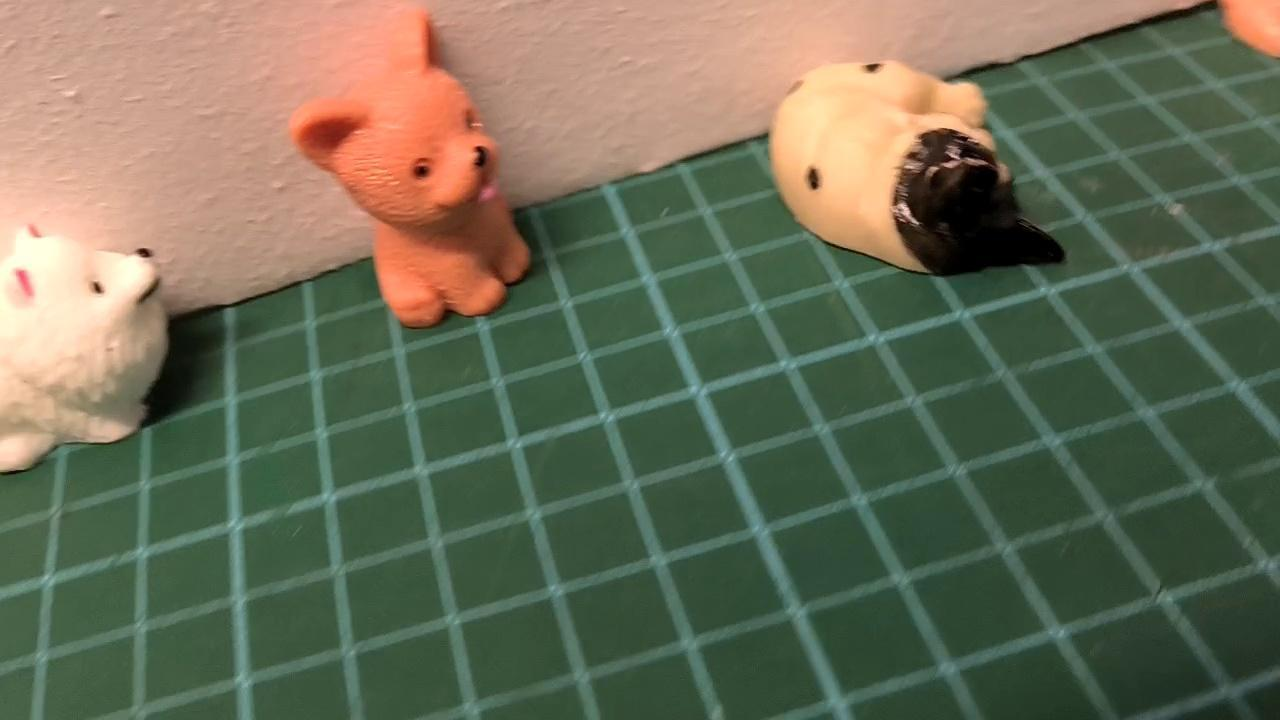pet: (286, 5, 537, 329), (769, 59, 1069, 279)
